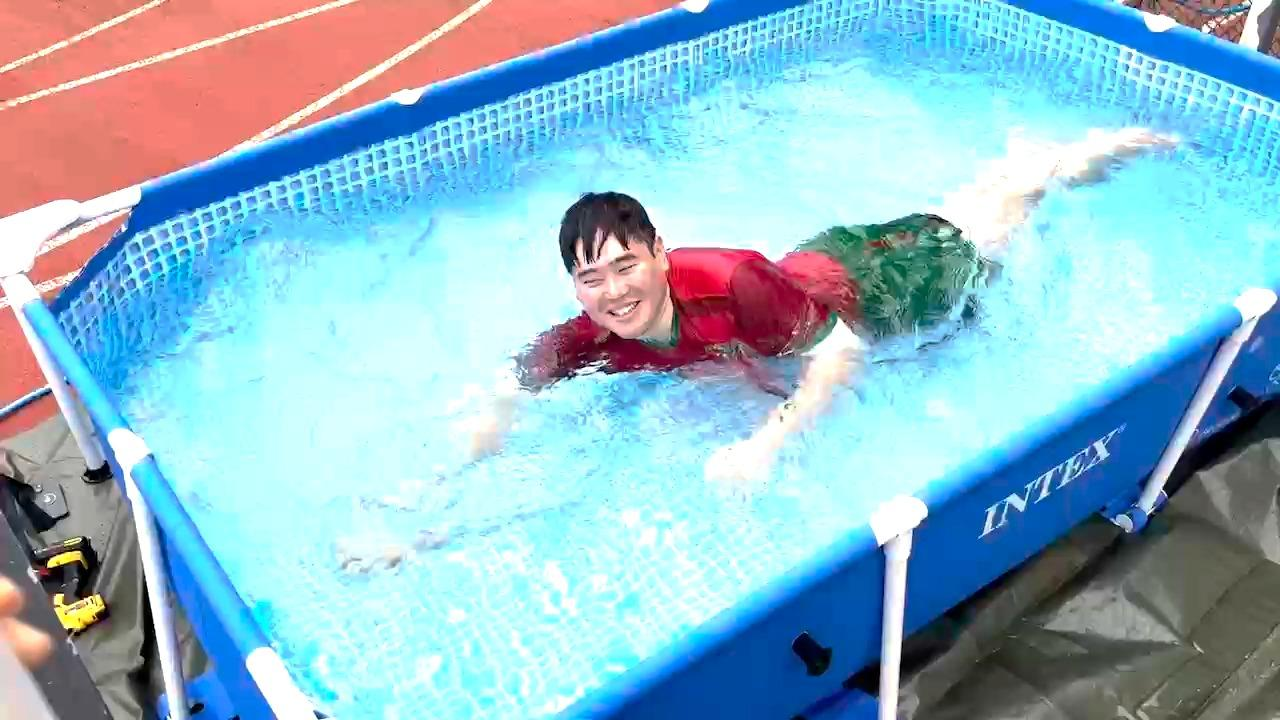Swimming: (325, 62, 1192, 539)
